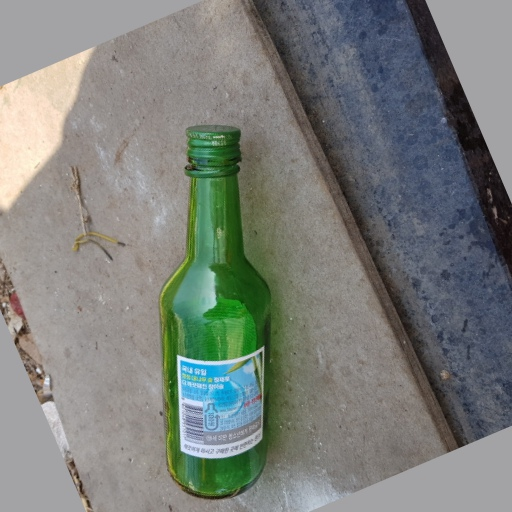Glass_0: (152, 118, 278, 501)
